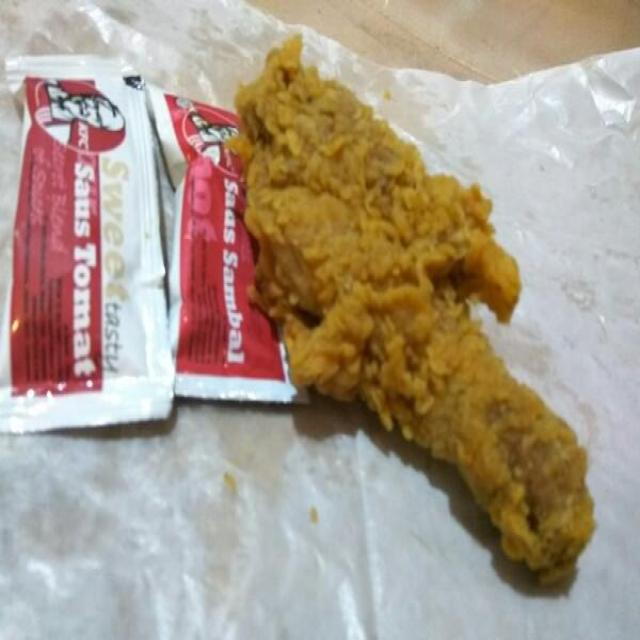Frango: (234, 36, 595, 594)
